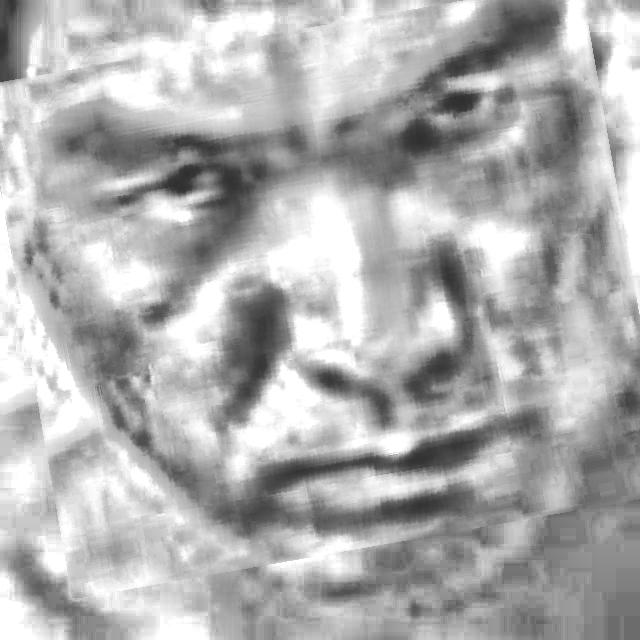angry: (1, 3, 640, 574)
